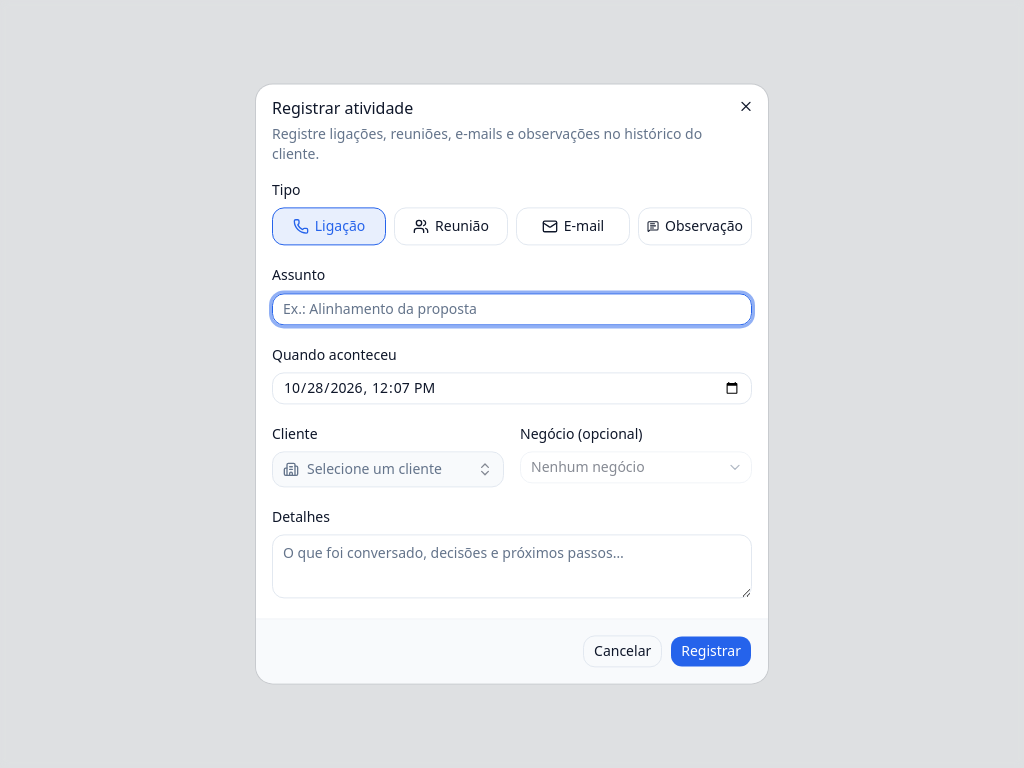
ActivityFormDialog › sem contexto, exige escolher um cliente ou negócio
The width and height of the screenshot is (1024, 768).
Type "Nota rápida" into the field labelled "Assunto" at (512, 309), box [272,293,752,325]
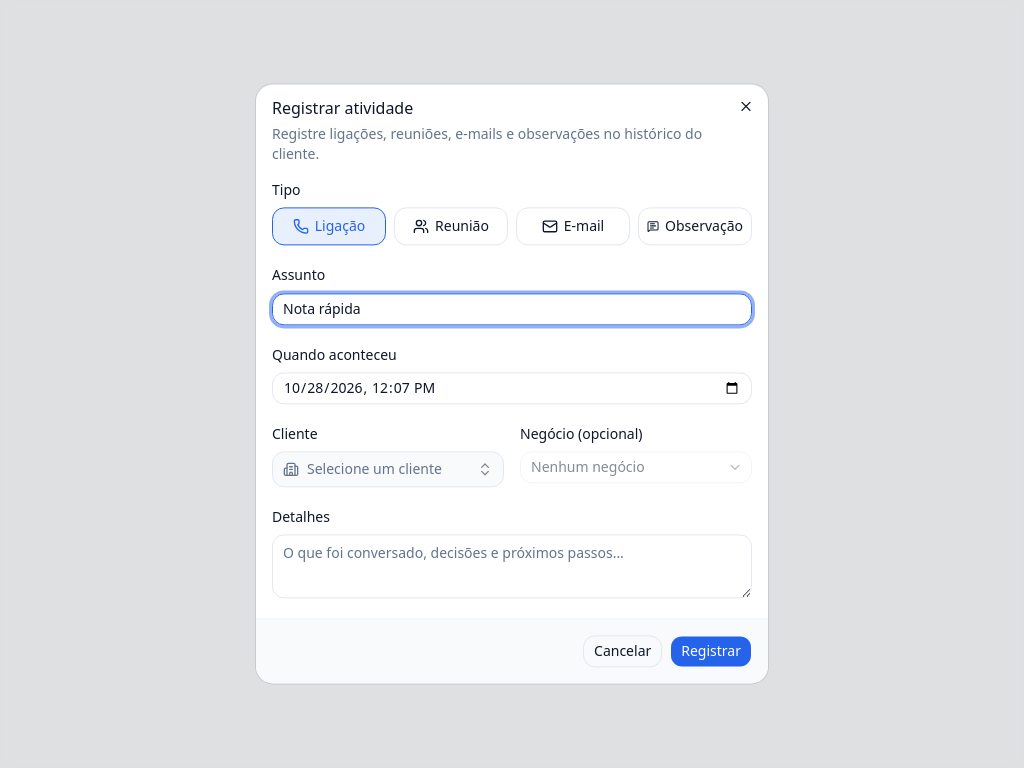
Click the button "Registrar" at (711, 652), box [670,636,752,668]
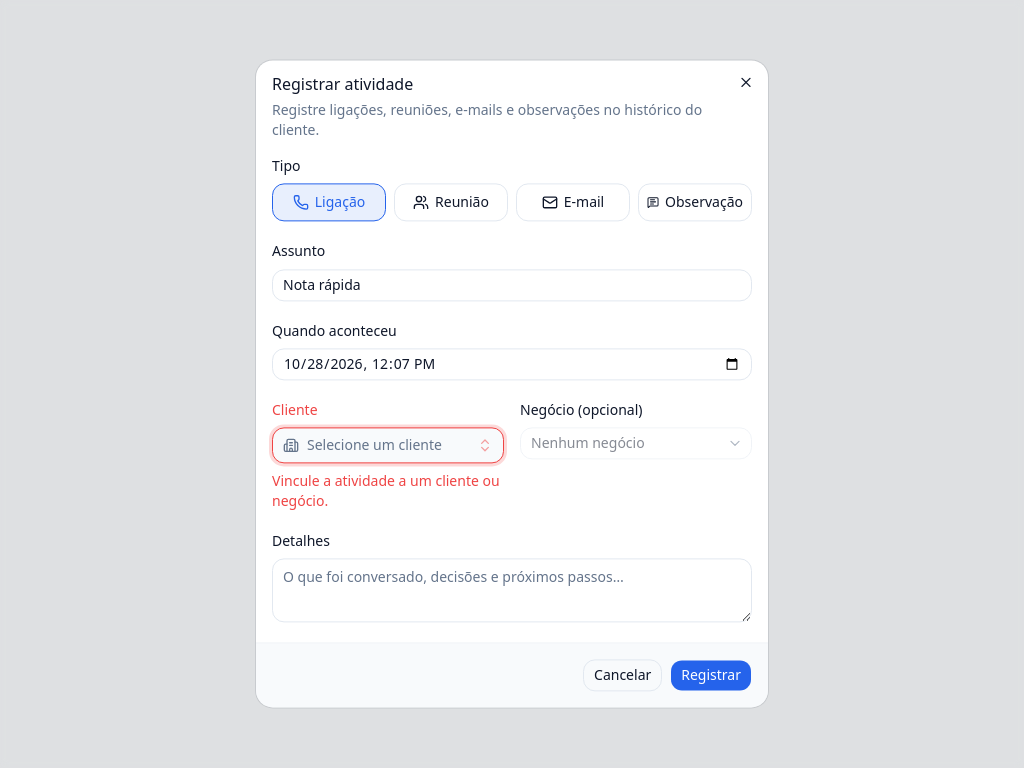
Check: the text "Vincule a atividade a um cliente ou negócio." is shown, box [272,471,504,511]
